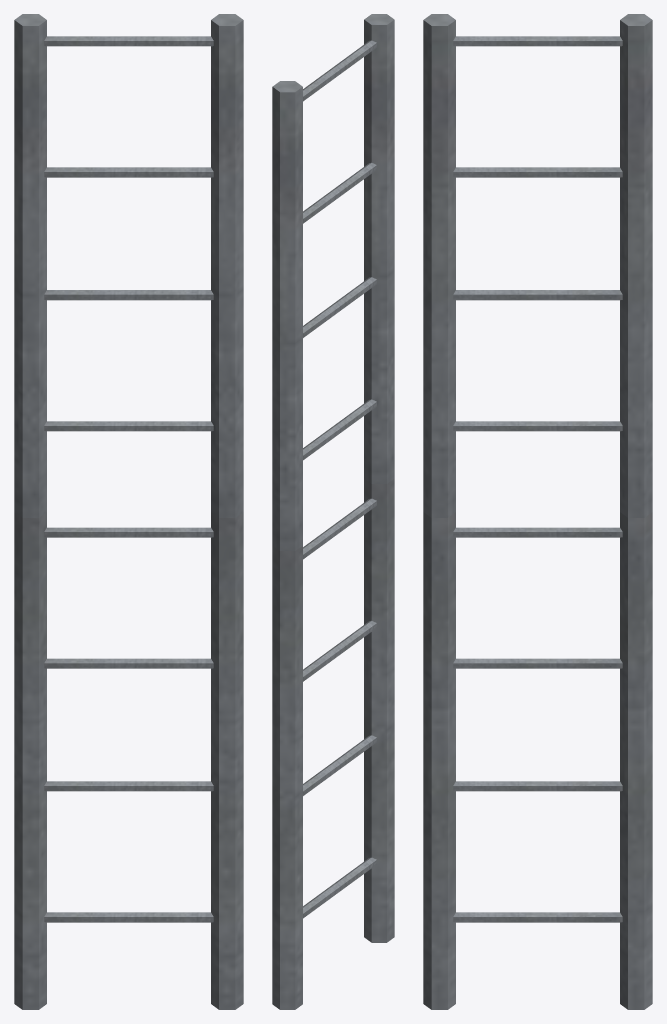
The model's file is Ladder Short.fbx.
The picture shows the model from 3 angles, left to right: view 1: azimuth 90°, elevation 25°; view 2: azimuth 150°, elevation 25°; view 3: azimuth 270°, elevation 25°; orthographic projection. The views are drawn at different scales.
Visible parts, largest first — view 1: Cylinder016; view 2: Cylinder016; view 3: Cylinder016.
Part boxes in pixels (bbox=[...]): Cylinder016: bbox=[14, 14, 243, 1009]; Cylinder016: bbox=[272, 14, 394, 1009]; Cylinder016: bbox=[423, 14, 652, 1009].
Size of the model in its own units: 10.39 by 400 by 84.43.
